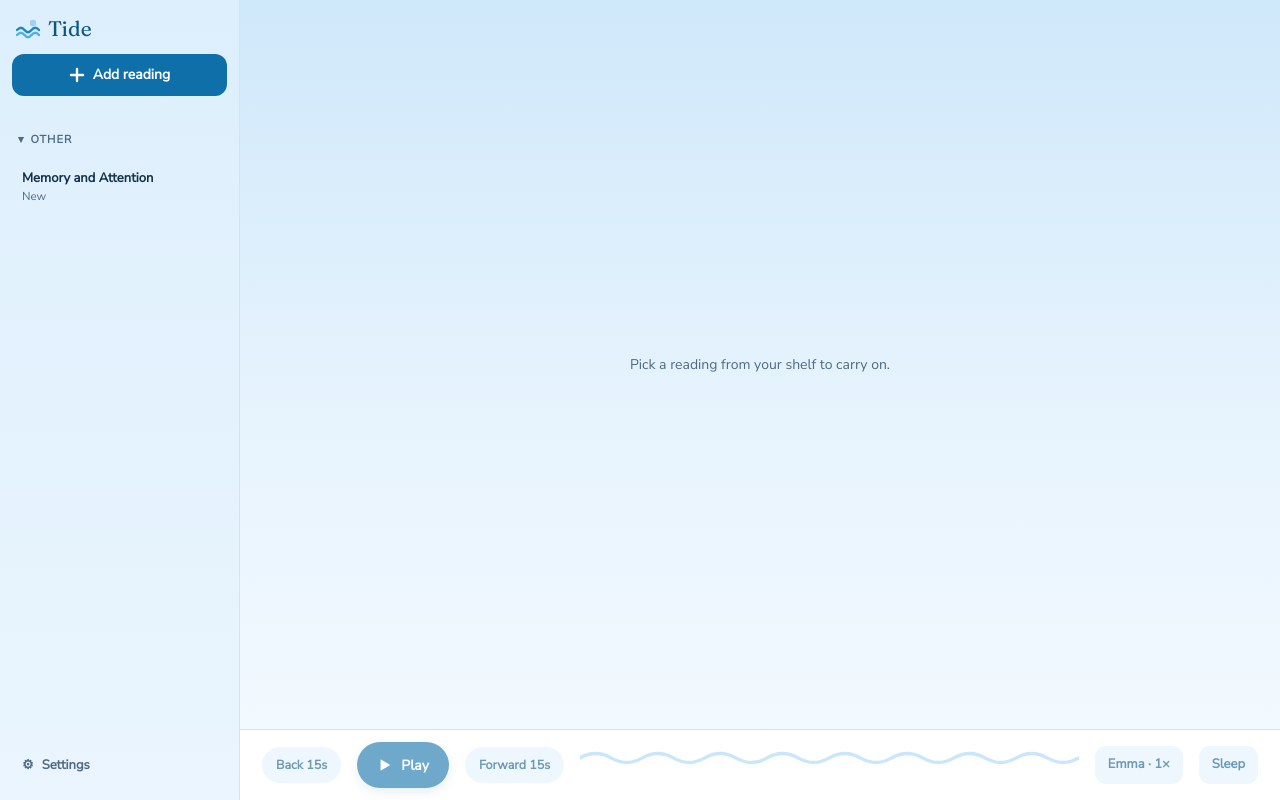
Test case: Sleep timer › the countdown does not run while paused
This screenshot has width=1280, height=800.
Click the button "Memory and Attention New".
click(120, 187)  # box top-left (12, 162), bottom-right (227, 212)
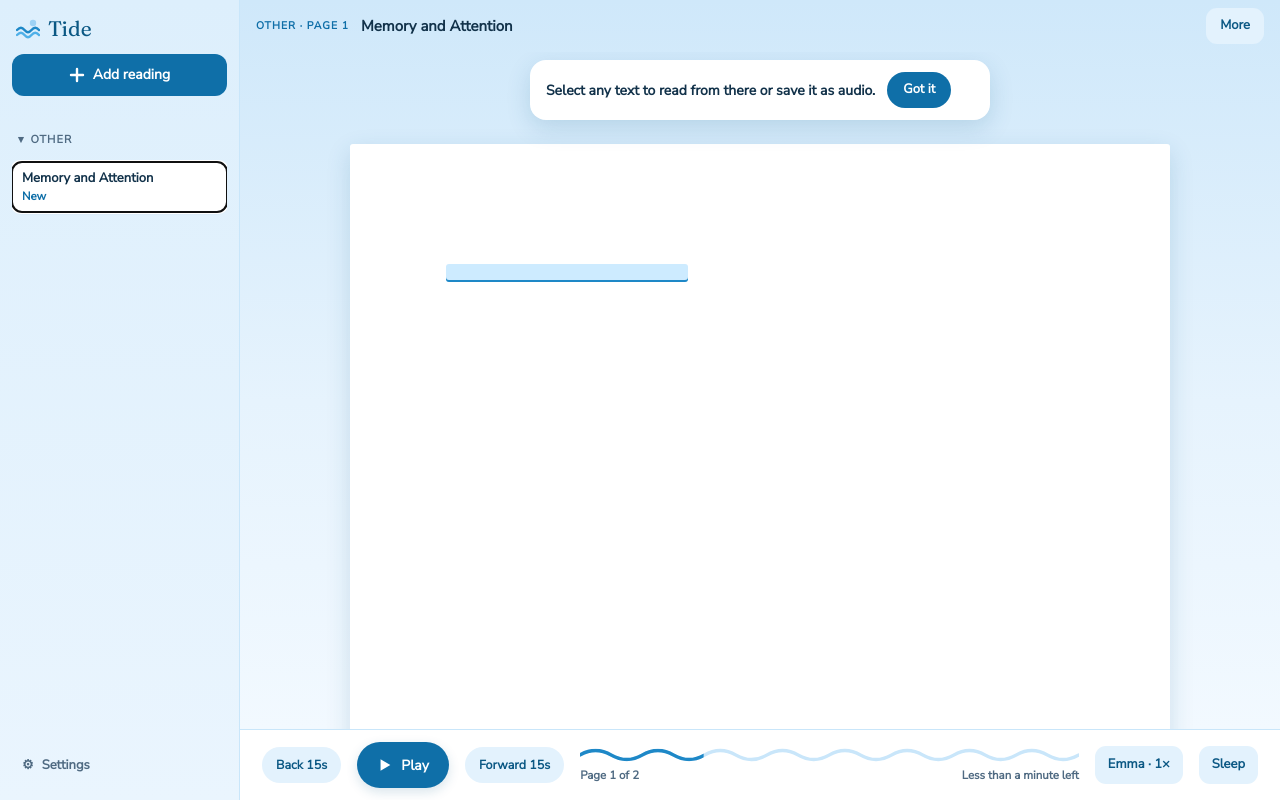
Result: the element with test id "sentence-highlight" is shown at top-left (446, 264), bottom-right (688, 282)
Click the button "Sleep".
click(1228, 765)  # box top-left (1199, 746), bottom-right (1258, 784)
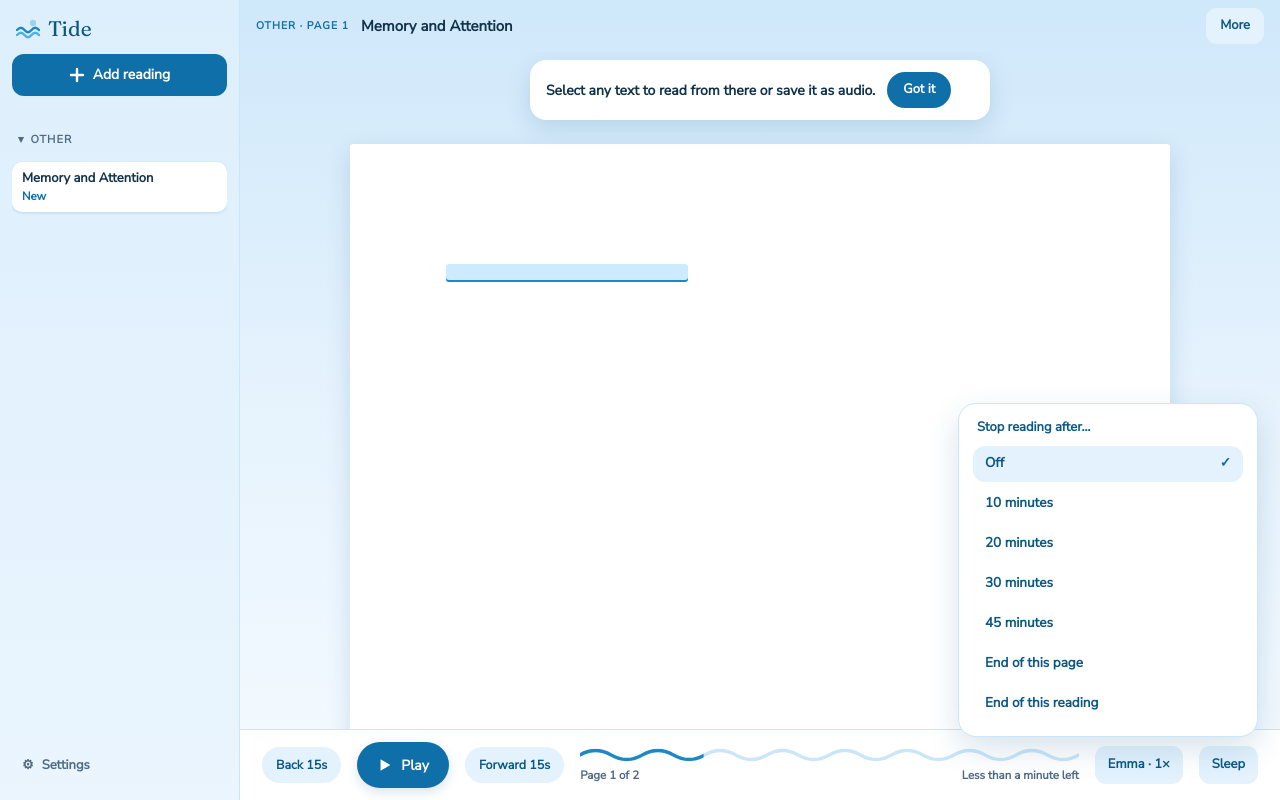
Click the radio button labelled "10 minutes".
click(1019, 503)  # box top-left (973, 486), bottom-right (1243, 522)
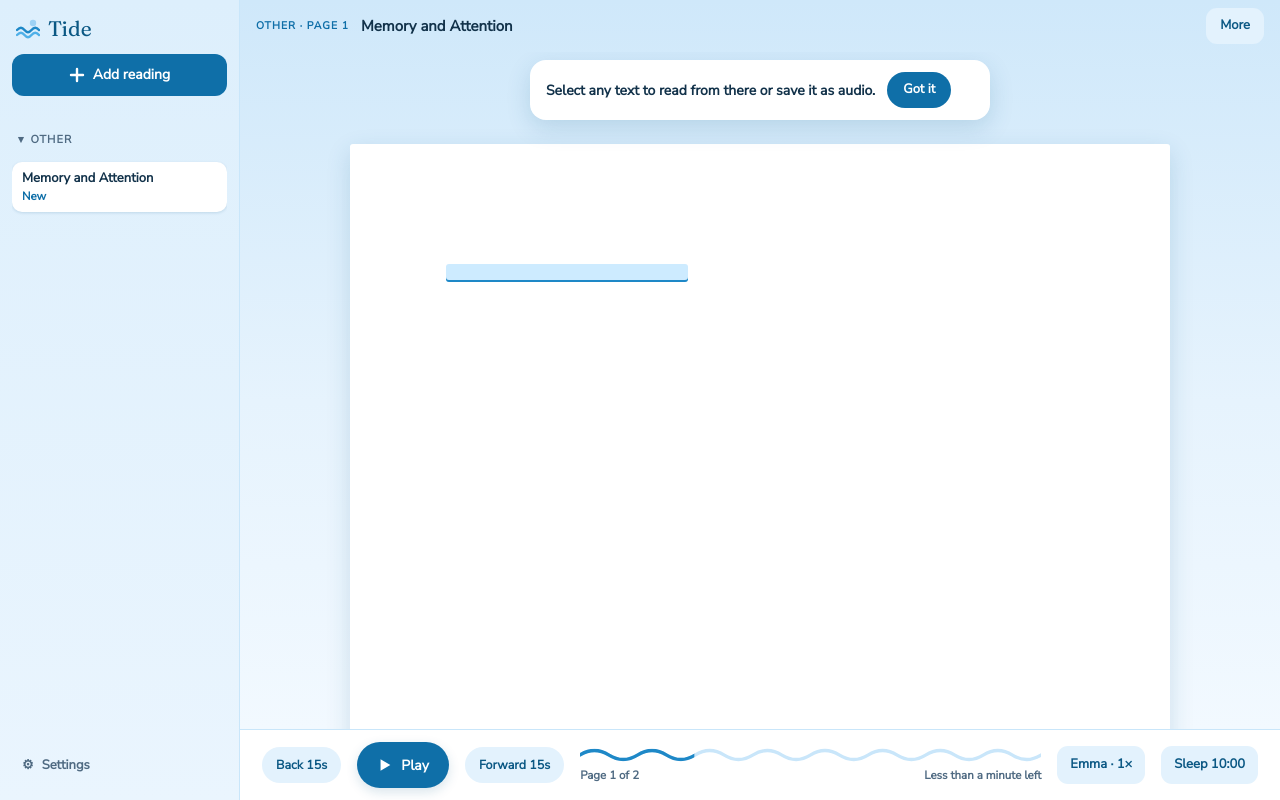
Result: the button "Sleep 10:00" is shown at top-left (1161, 746), bottom-right (1258, 784)
